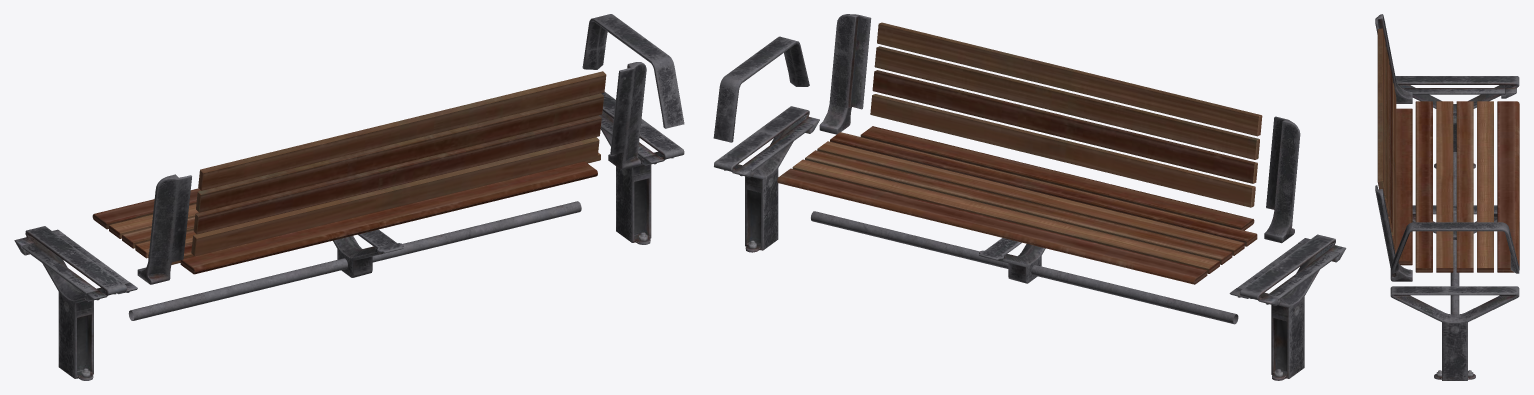
File: bench.glb
3 renders of one model, left to right at view 1: azimuth 30°, elevation 25°; view 2: azimuth 150°, elevation 25°; view 3: azimuth 270°, elevation 25°, orthographic. The views are drawn at different scales.
Visible parts, largest first — view 1: arm_rest_01; view 2: arm_rest_01; view 3: arm_rest_01.
Part boxes in pixels (x1,y1,x2,y2): arm_rest_01: [14, 14, 684, 380]; arm_rest_01: [713, 14, 1346, 380]; arm_rest_01: [1375, 14, 1519, 380].
Bounding box in the file's own units: 2.45 × 0.8669 × 0.6711.
4 materials, 4 textured.
